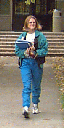person: (16, 16, 45, 117)
